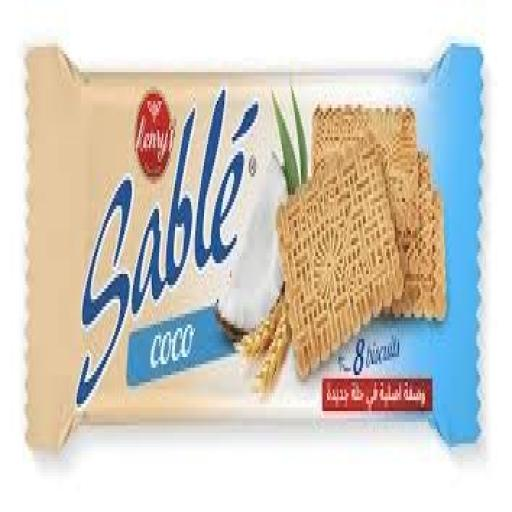sable: (16, 14, 512, 490)
